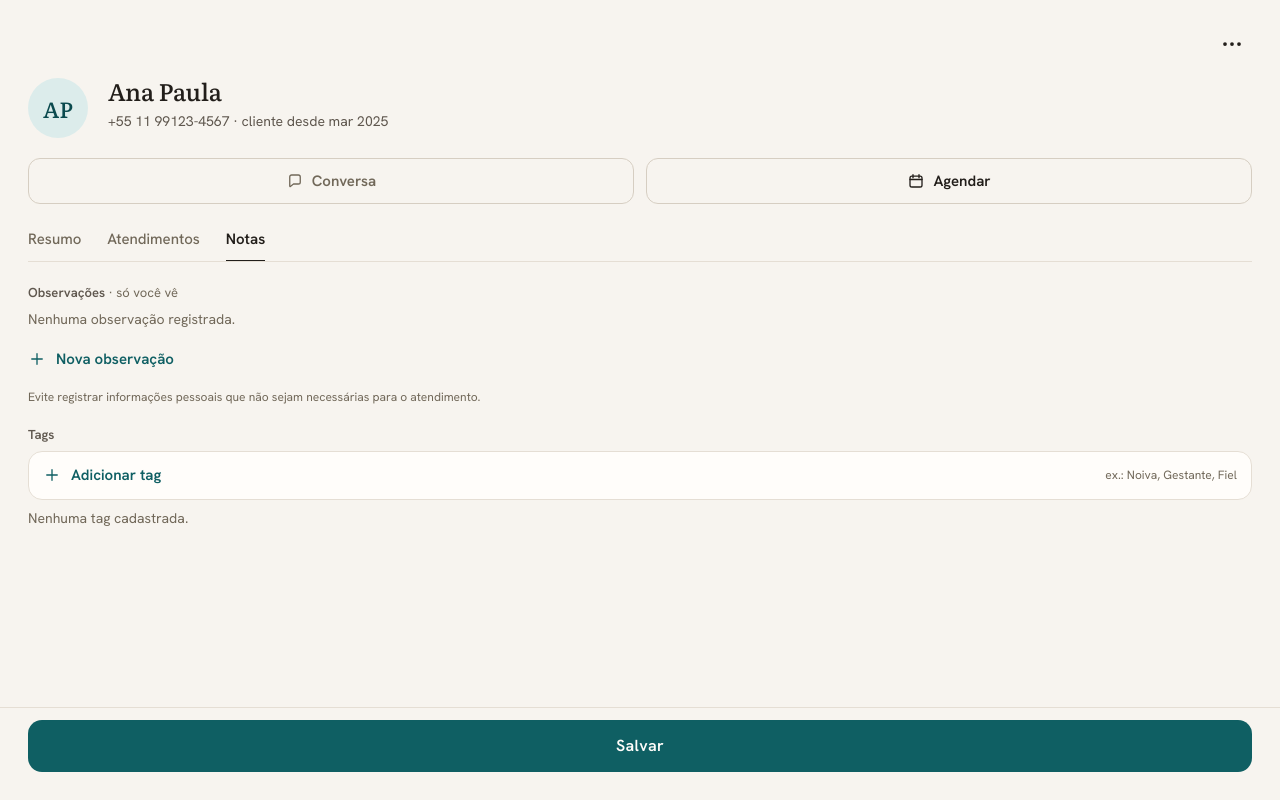
Test: Goal094 prova 4 (CL7): Notas › sem rascunho, 'Salvar' diz que o resto já vale na hora e não envia nada
The image size is (1280, 800).
Click the button "Salvar" at [640, 746], box [28,720,1252,772]
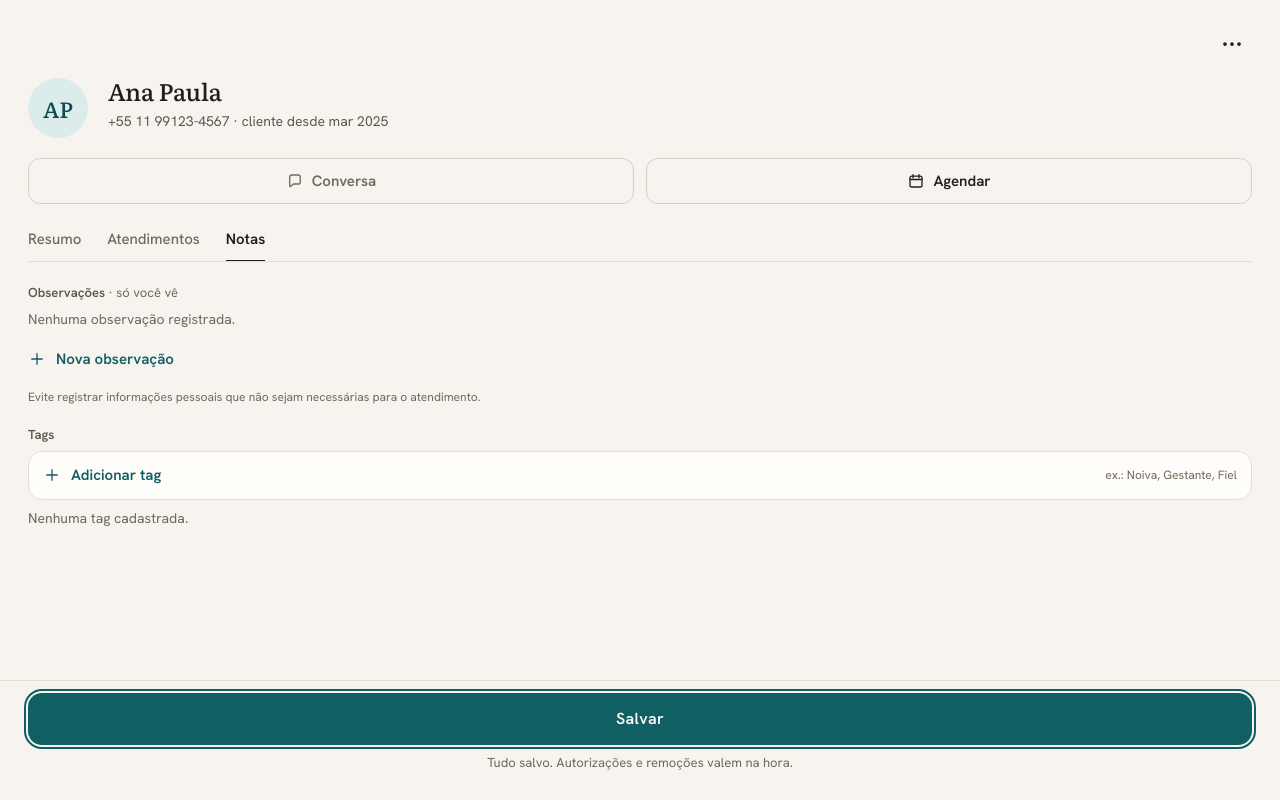
Check: the message shows "Tudo salvo.", box [487,754,793,770]
